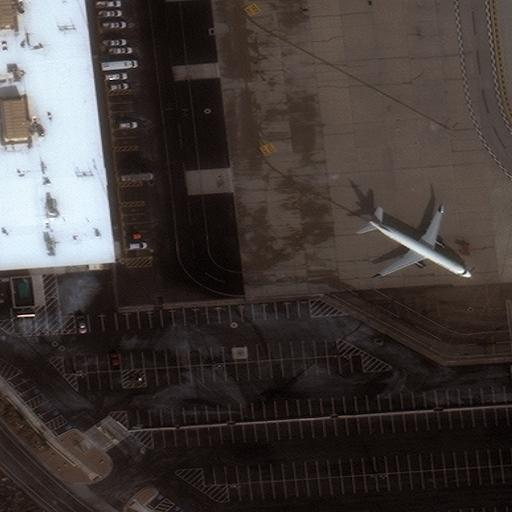Medium Civil Transport: (367, 208, 473, 279)
